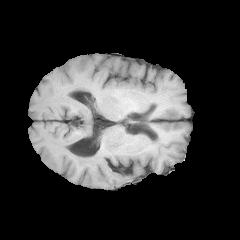glioma: (77, 136, 162, 169)
